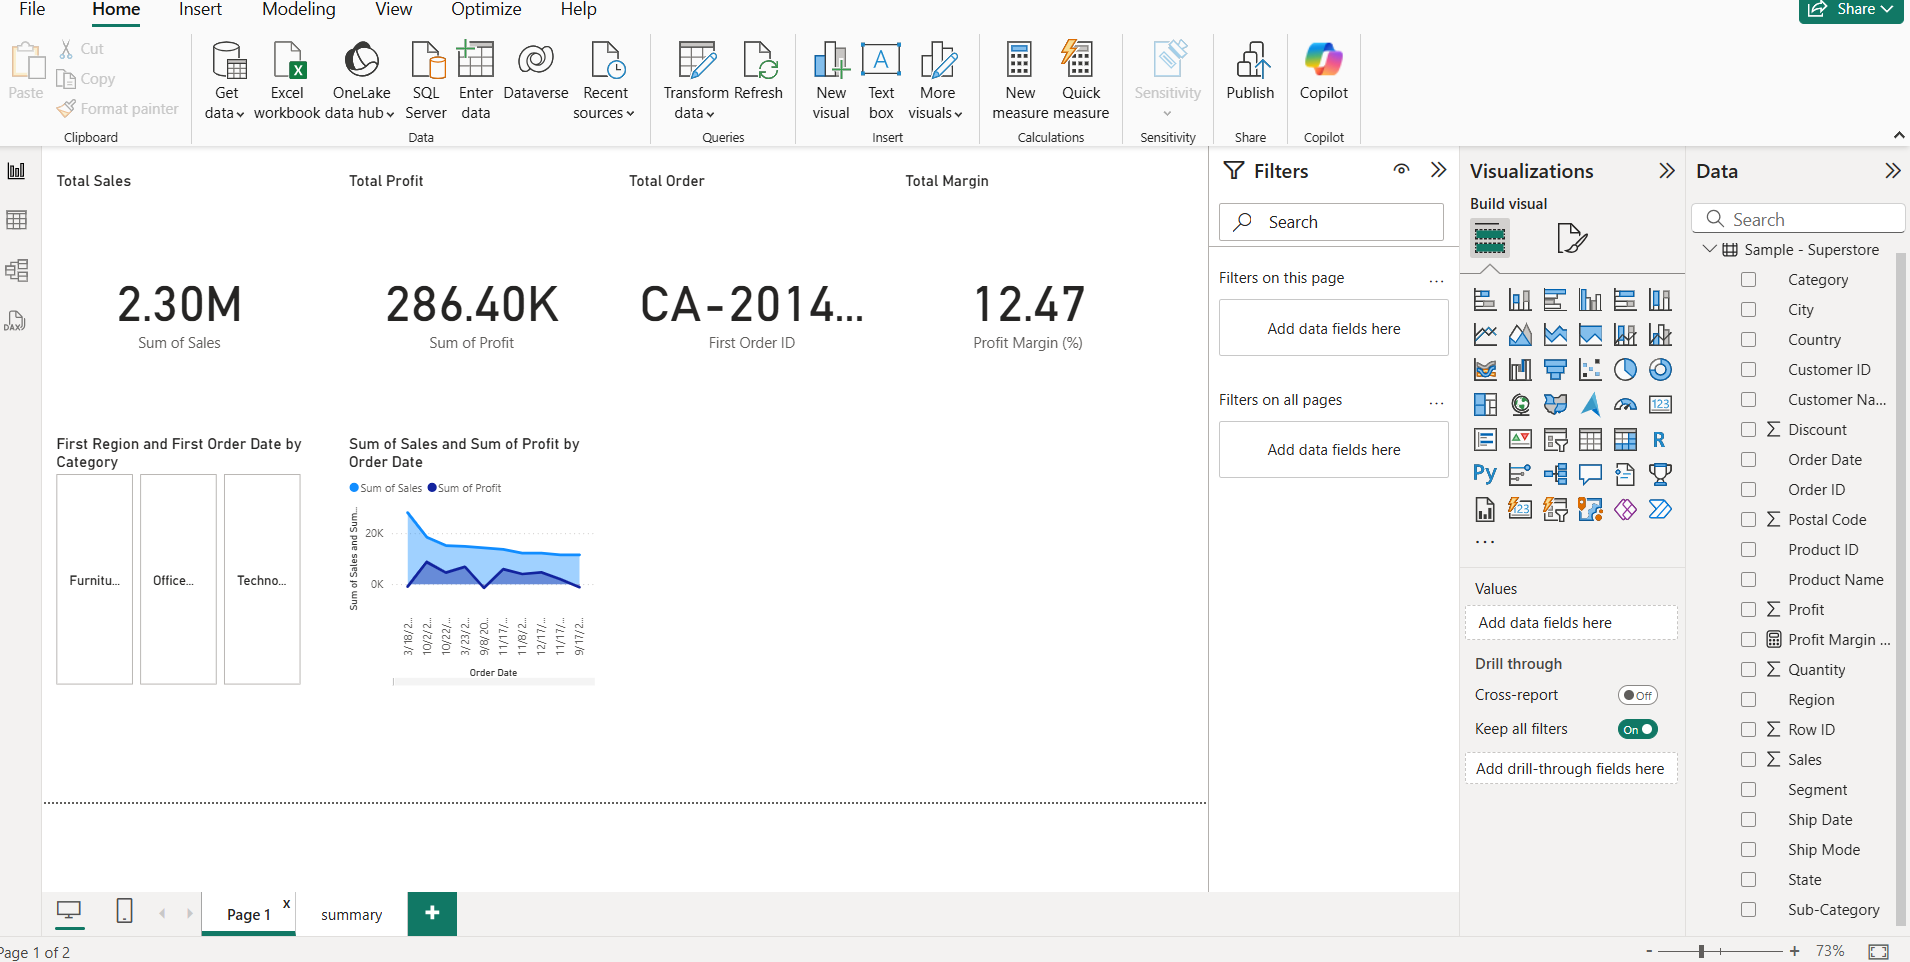

The page's visual inventory and layout, read from the dashboard file:
{"tool":"powerbi","page":{"name":"Page 1","canvas":[1280,720],"ordinal":0},"visuals":[{"type":"card","title":"Total Sales","fields":{"Values":["Sum(Sample - Superstore.Sales)"]},"box":[11,27.4,279.9,279.9],"z":0},{"type":"card","title":"Total Profit","fields":{"Values":["Sum(Sample - Superstore.Profit)"]},"box":[332.1,27.4,279.9,279.9],"z":1},{"type":"card","title":"Total Order","fields":{"Values":["Min(Sample - Superstore.Order ID)"]},"box":[639.5,27.4,279.9,279.9],"z":2},{"type":"card","title":"Total Margin","fields":{"Values":["Sample - Superstore.Profit Margin (%)"]},"box":[942.7,27.4,279.9,279.9],"z":3},{"type":"advancedSlicerVisual","fields":{"Values":["Sample - Superstore.Category"]},"box":[11,317,280,280],"z":4},{"type":"areaChart","fields":{"Y":["Sum(Sample - Superstore.Sales)","Sum(Sample - Superstore.Profit)"],"Category":["Sample - Superstore.Order Date"]},"box":[332,317,280,280],"z":5}]}

Visuals, with their boxes on the page's 1280x720 design canvas (x1, y1, x2, y2). These are canvas units, not pixel positions in the 1910x962 screenshot, which may show the page scaled, cropped or inside an application window:
"Total Sales" card: select_region(11, 27, 291, 307)
"Total Profit" card: select_region(332, 27, 612, 307)
"Total Order" card: select_region(640, 27, 919, 307)
"Total Margin" card: select_region(943, 27, 1223, 307)
advancedSlicerVisual - Sample - Superstore.Category: select_region(11, 317, 291, 597)
areaChart - Sum(Sample - Superstore.Sales) x Sum(Sample - Superstore.Profit): select_region(332, 317, 612, 597)
